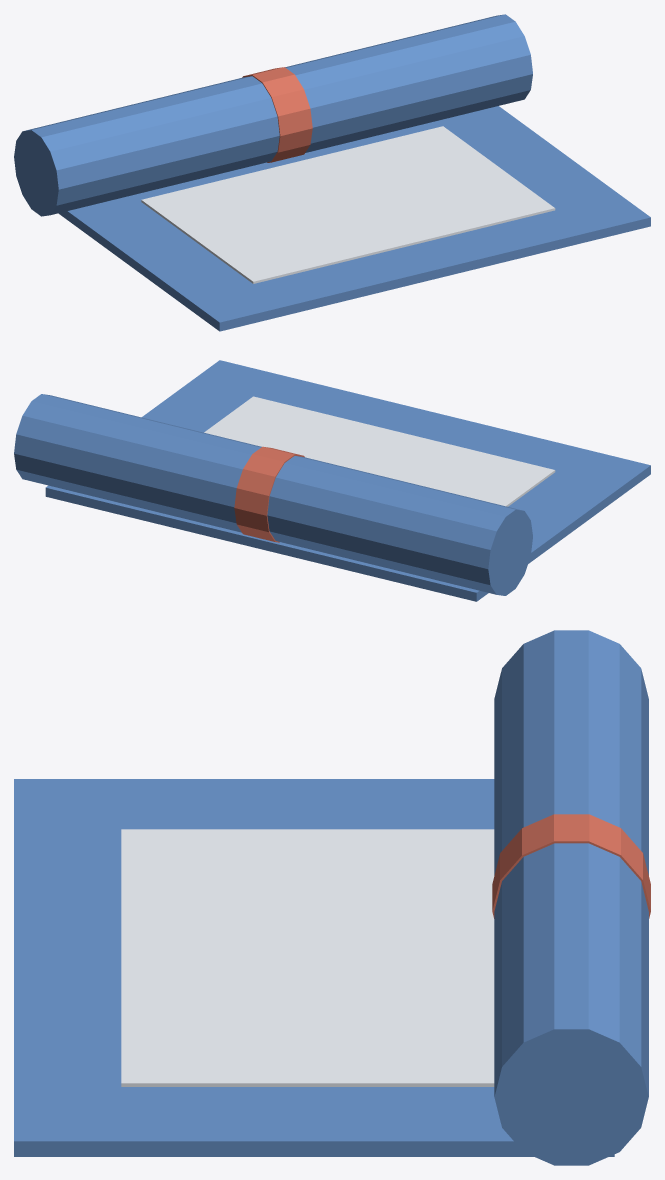
Rendered from Loot_Blueprint.fbx.
3 views of the same model, one above another, from view 1: azimuth 30°, elevation 25°; view 2: azimuth 150°, elevation 25°; view 3: azimuth 270°, elevation 25° (orthographic). The views are drawn at different scales.
Parts seen in each view (by area): view 1: Loot_Blueprint; view 2: Loot_Blueprint; view 3: Loot_Blueprint.
Part boxes in pixels (<box>): Loot_Blueprint: <box>14,14,650,331</box>; Loot_Blueprint: <box>14,360,650,601</box>; Loot_Blueprint: <box>14,630,650,1165</box>.
Size of the model in its own units: 0.22 by 0.038 by 0.1485.
